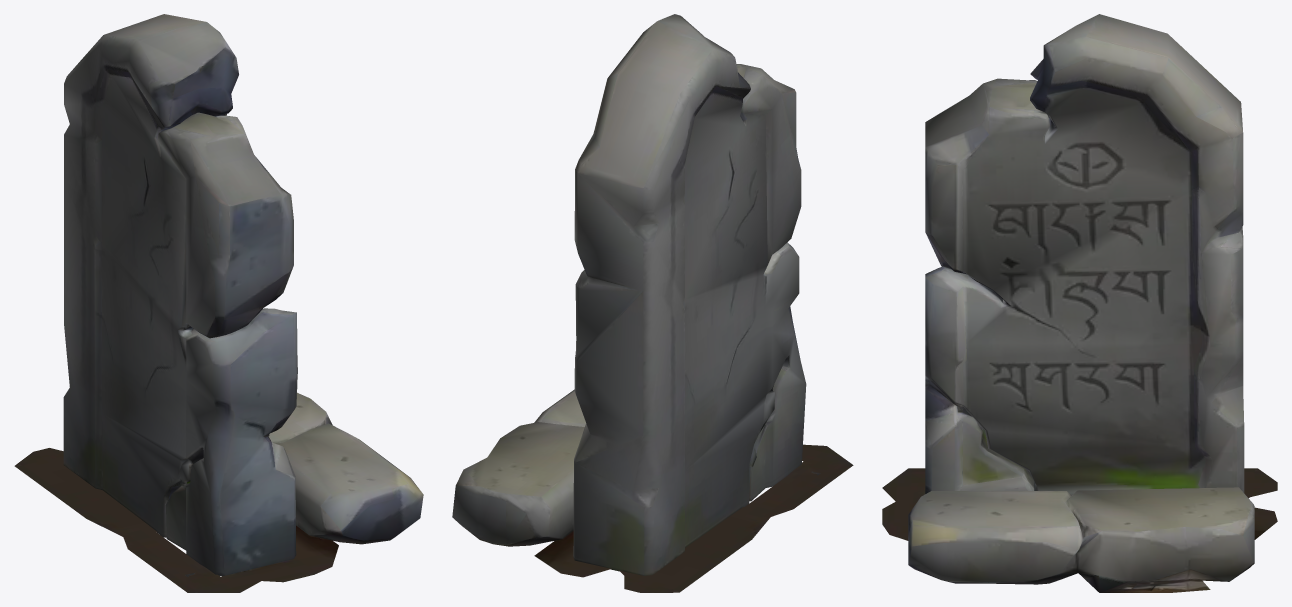
The model's file is marsh_shrine_fragment.glb.
The picture shows the model from 3 angles, left to right: view 1: azimuth 30°, elevation 25°; view 2: azimuth 150°, elevation 25°; view 3: azimuth 270°, elevation 25°; orthographic projection.
Visible parts, largest first — view 1: tripo_node_cb241d21-7dc6-4340-9f85-40e2186a1824; view 2: tripo_node_cb241d21-7dc6-4340-9f85-40e2186a1824; view 3: tripo_node_cb241d21-7dc6-4340-9f85-40e2186a1824.
Part boxes in pixels (left/top/right/bottom): tripo_node_cb241d21-7dc6-4340-9f85-40e2186a1824: left=14, top=14, right=423, bottom=592; tripo_node_cb241d21-7dc6-4340-9f85-40e2186a1824: left=452, top=14, right=853, bottom=592; tripo_node_cb241d21-7dc6-4340-9f85-40e2186a1824: left=882, top=14, right=1277, bottom=592.
Bounding box in the file's own units: 0.4949 × 0.9 × 0.664.
1 material, 1 textured.
